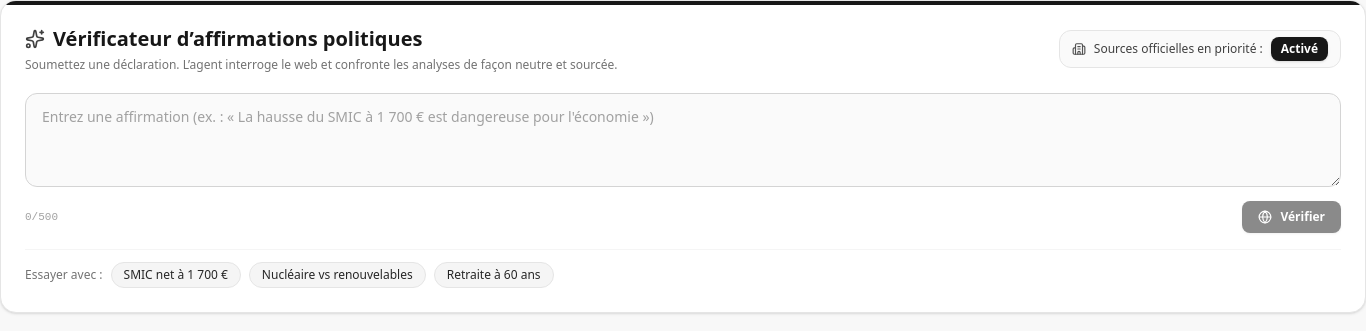
Test case: CheckPage › le bouton reste désactivé sous 10 caractères et le dit
Expected: the button "Vérifier" is disabled, [1242,201,1341,233]
Type "court" into the text box labelled "affirmation" at (683,140), box [25,93,1341,187]
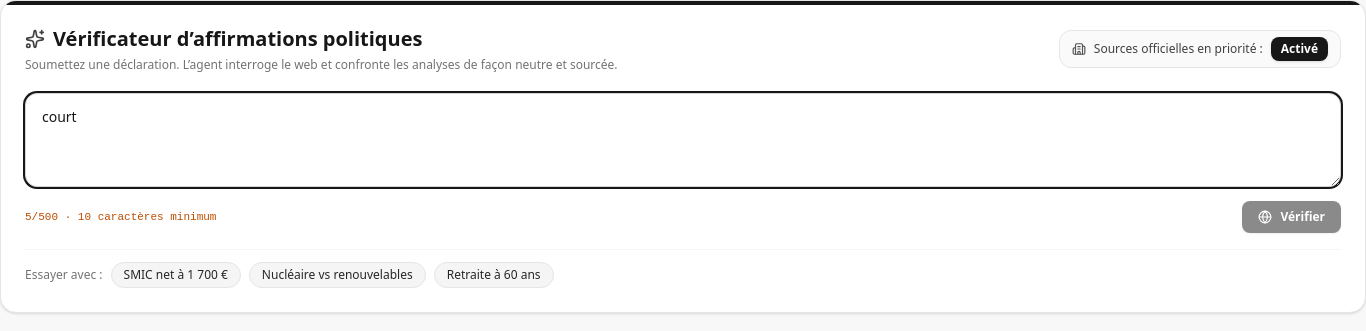
Expected: the button "Vérifier" is disabled, [1242,201,1341,233]
Now the text "5/500 · 10 caractères minimum" is shown, box [25,209,216,226]
Type " mais maintenant assez long" into the text box named "affirmation" at (683,140), box [25,93,1341,187]
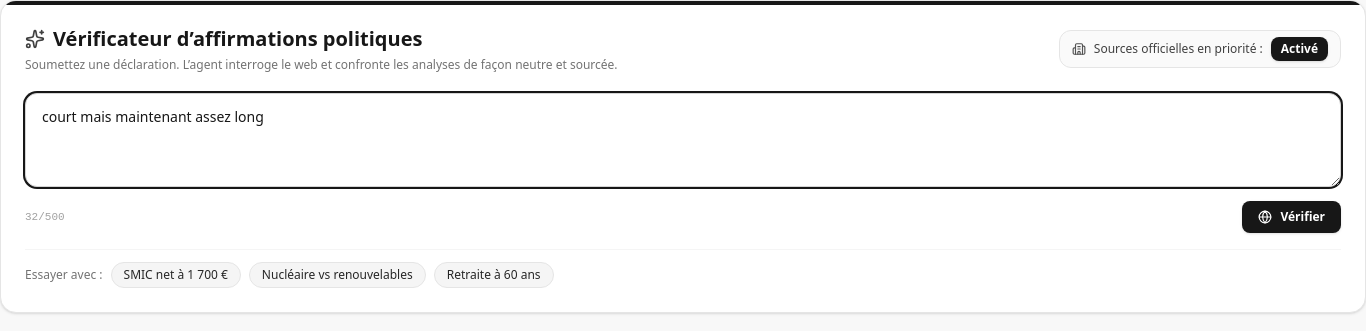
Now the button "Vérifier" is enabled, box [1242,201,1341,233]
